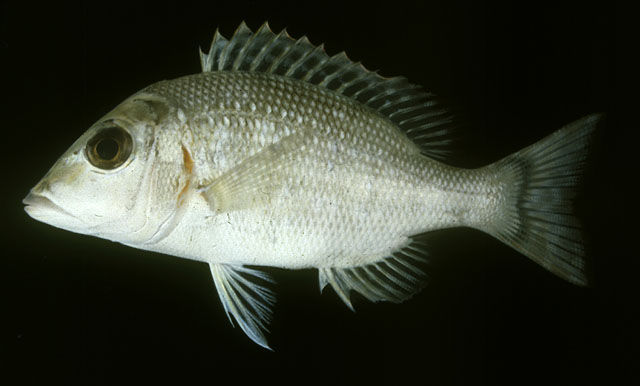fish: (23, 19, 602, 353)
